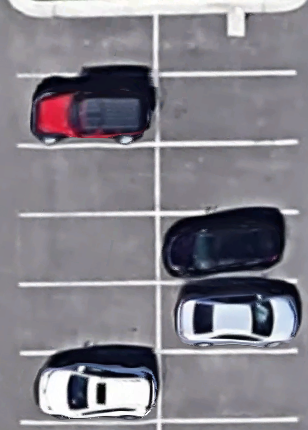Occupied: (17, 351, 159, 422), (158, 212, 296, 284), (156, 282, 297, 352), (16, 76, 158, 145), (156, 11, 297, 73)
Vacant: (18, 212, 158, 287), (157, 74, 297, 143), (158, 352, 298, 421), (17, 284, 158, 352), (157, 144, 297, 212), (16, 145, 158, 212), (16, 9, 155, 75)
